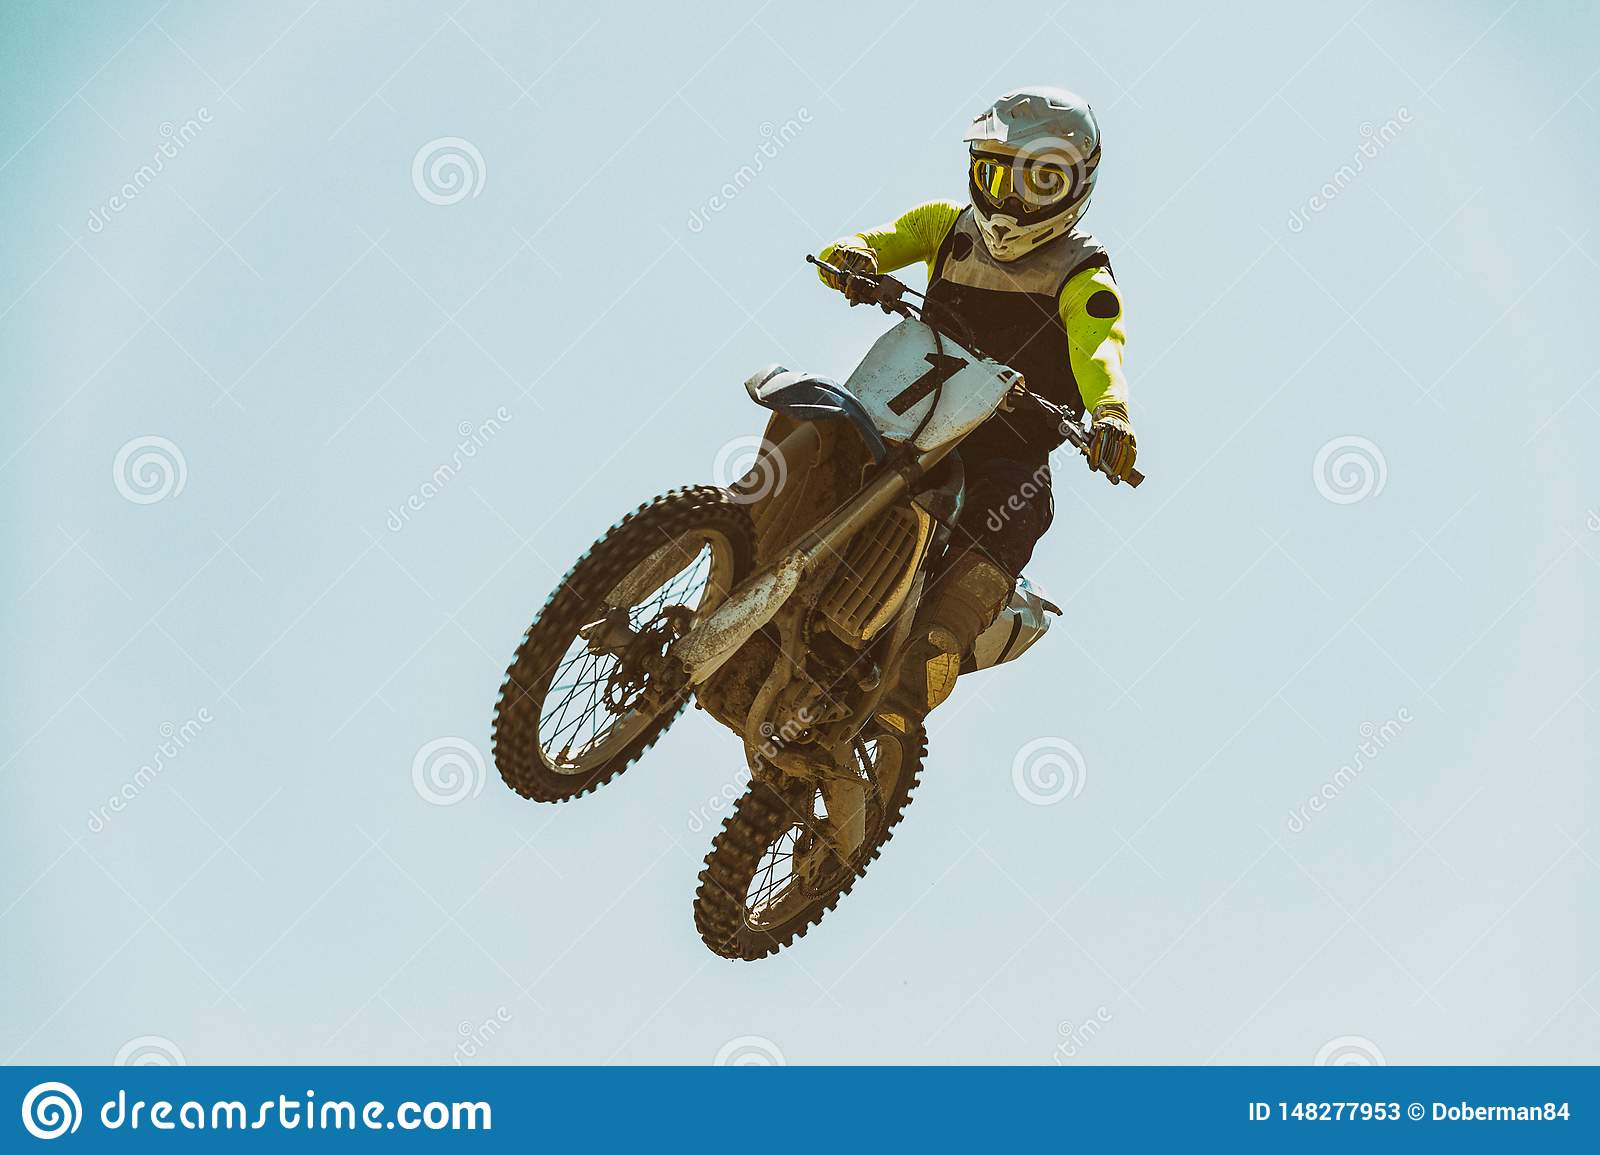helmet: (950, 92, 1109, 263)
